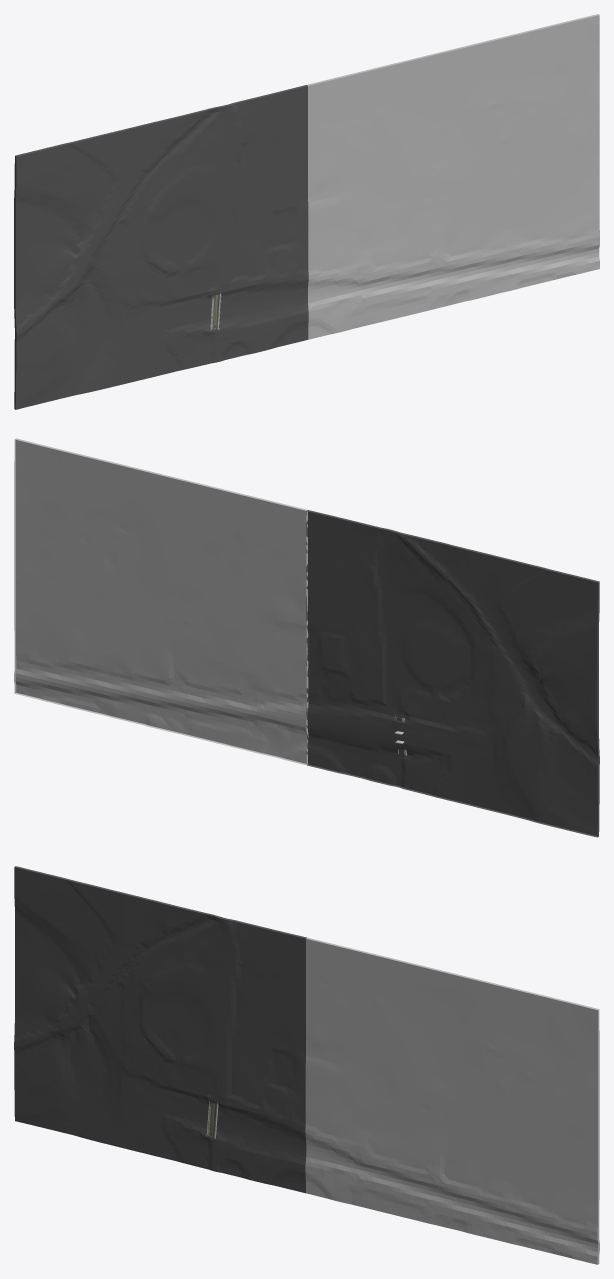
File: novo6.dae
3 views of the same model, one above another, from view 1: azimuth 30°, elevation 25°; view 2: azimuth 150°, elevation 25°; view 3: azimuth 330°, elevation 25° (orthographic).
Parts seen in each view (by area): view 1: node; view 2: node; view 3: node.
Part boxes in pixels (bbox=[...]): node: bbox=[14, 14, 599, 409]; node: bbox=[14, 438, 599, 837]; node: bbox=[14, 866, 599, 1264].
Bounding box in the file's own units: 1341 × 558 × 14.39.
